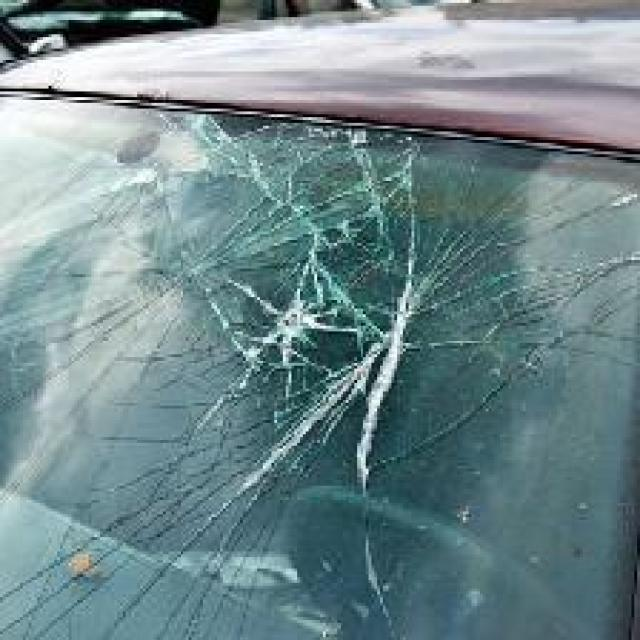damaged: (2, 117, 638, 637)
